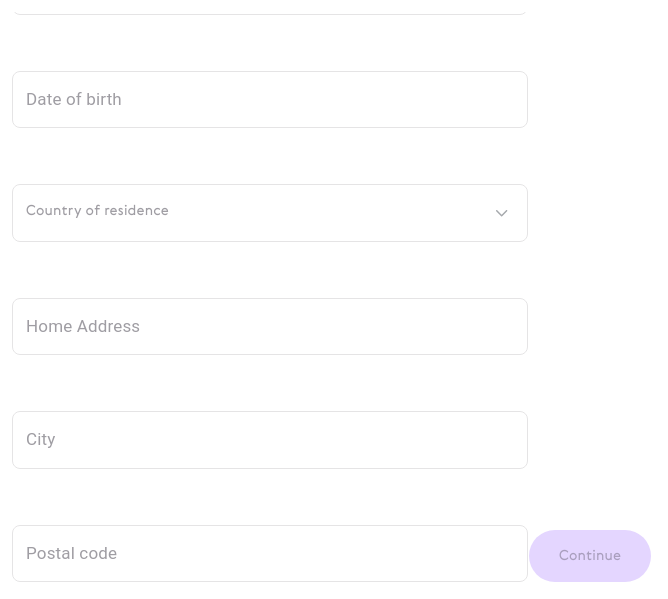
Test: Fill user details › cityInput text field should show the helper text
This screenshot has width=668, height=599.
(page scrolled)
Type "New York" into the field labelled "City" at (270, 440), box [12,411,528,469]
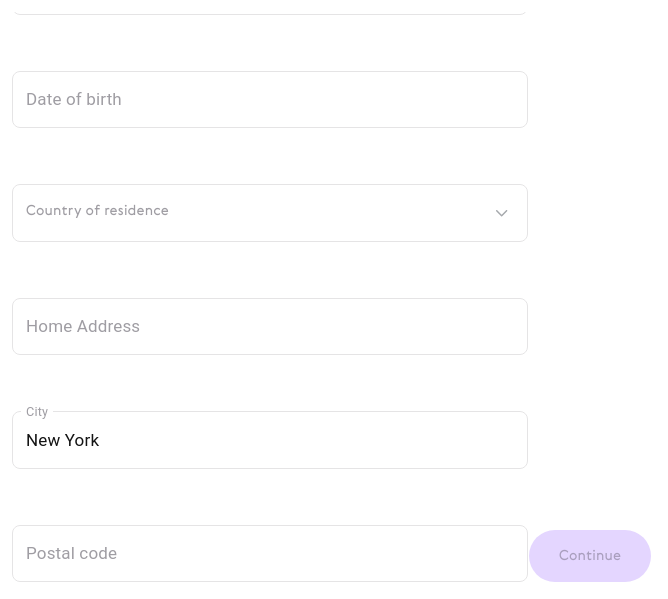
Clear the field labelled "City" at (270, 440), box [12,411,528,469]
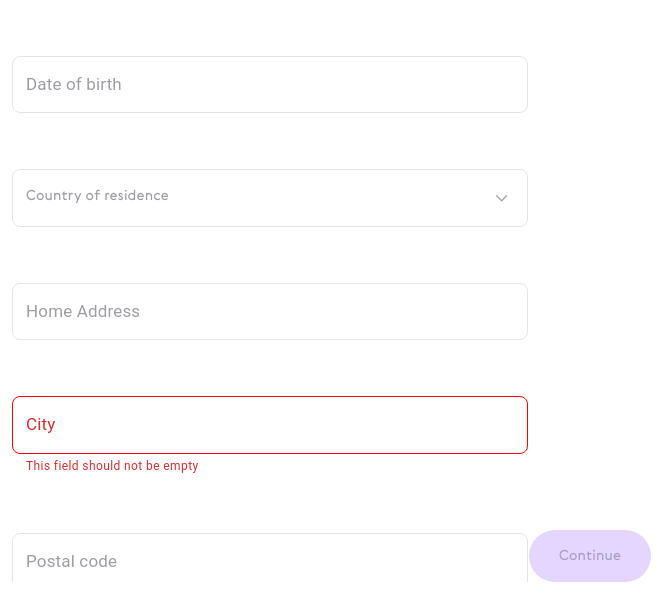
Now the text "This field should not be empty" is shown, box [26,459,199,473]
